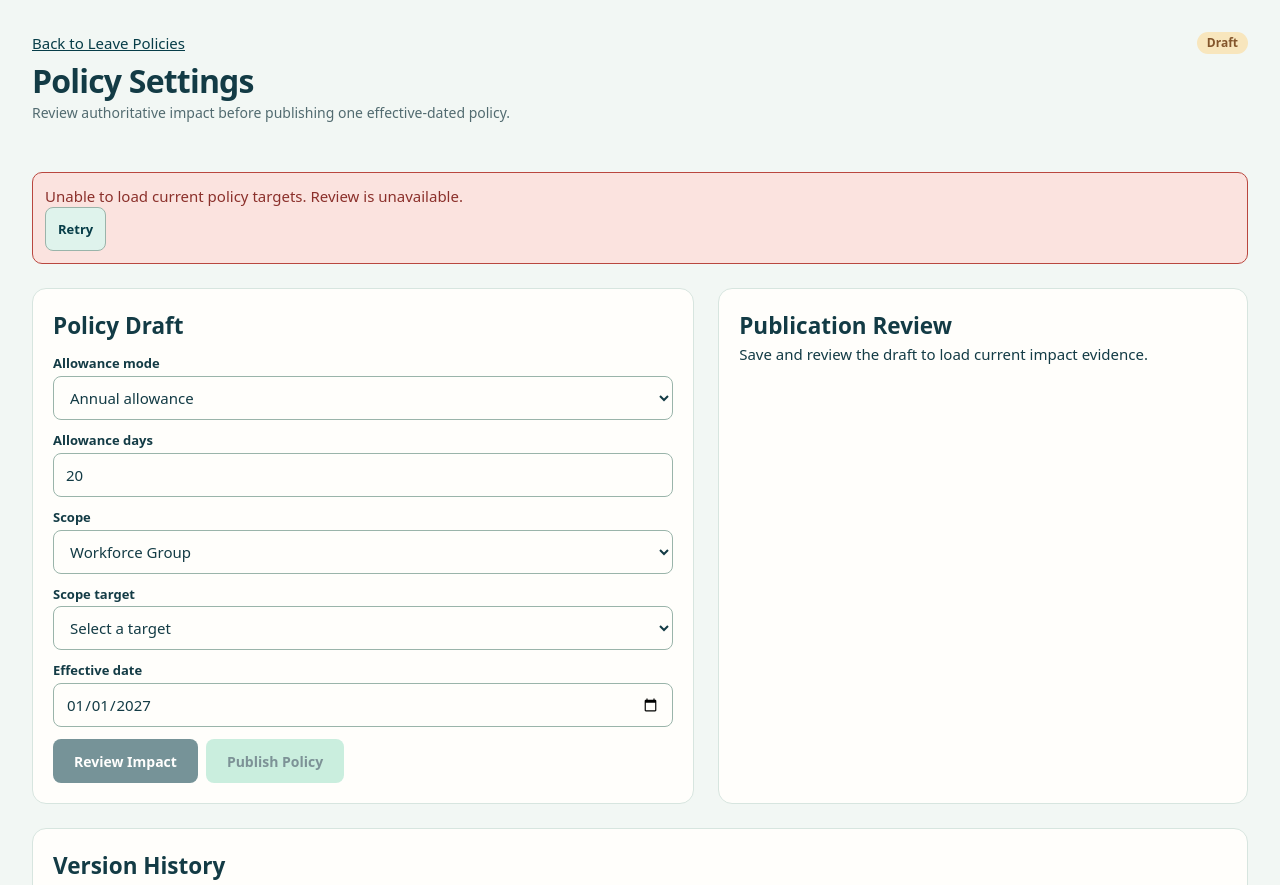
Scenario: PolicySettingsPage › [P0] preserves form input while overview failure blocks review and retry restores it
Replace the text in the number field labelled "Allowance days" with "24": (363, 475) [53,453,673,497]
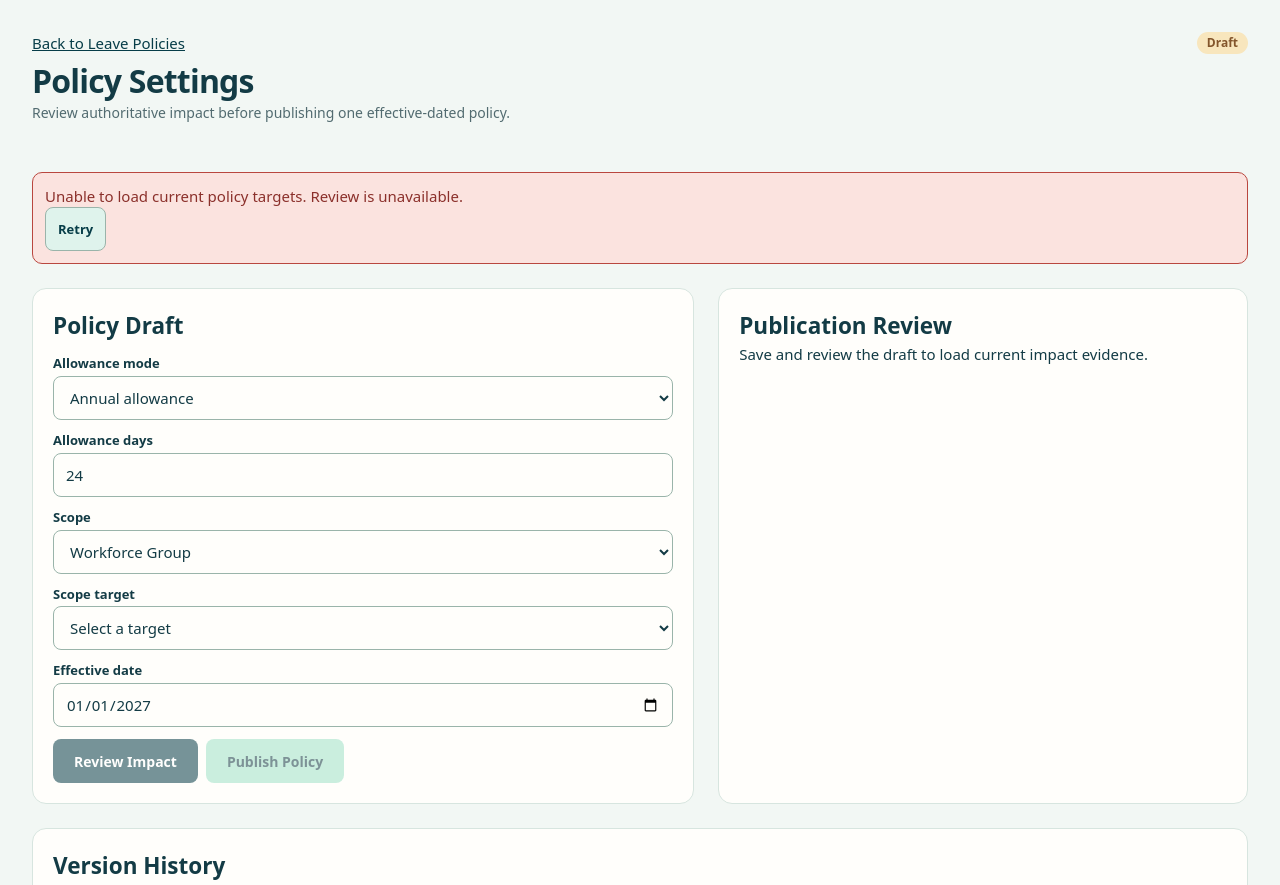
Check: the text "Unable to load current policy targets" is shown, box [45,186,463,206]
Check: the button "Review Impact" is disabled, box [53,739,198,783]
Click the button "Retry": click(76, 229) [45,207,106,251]
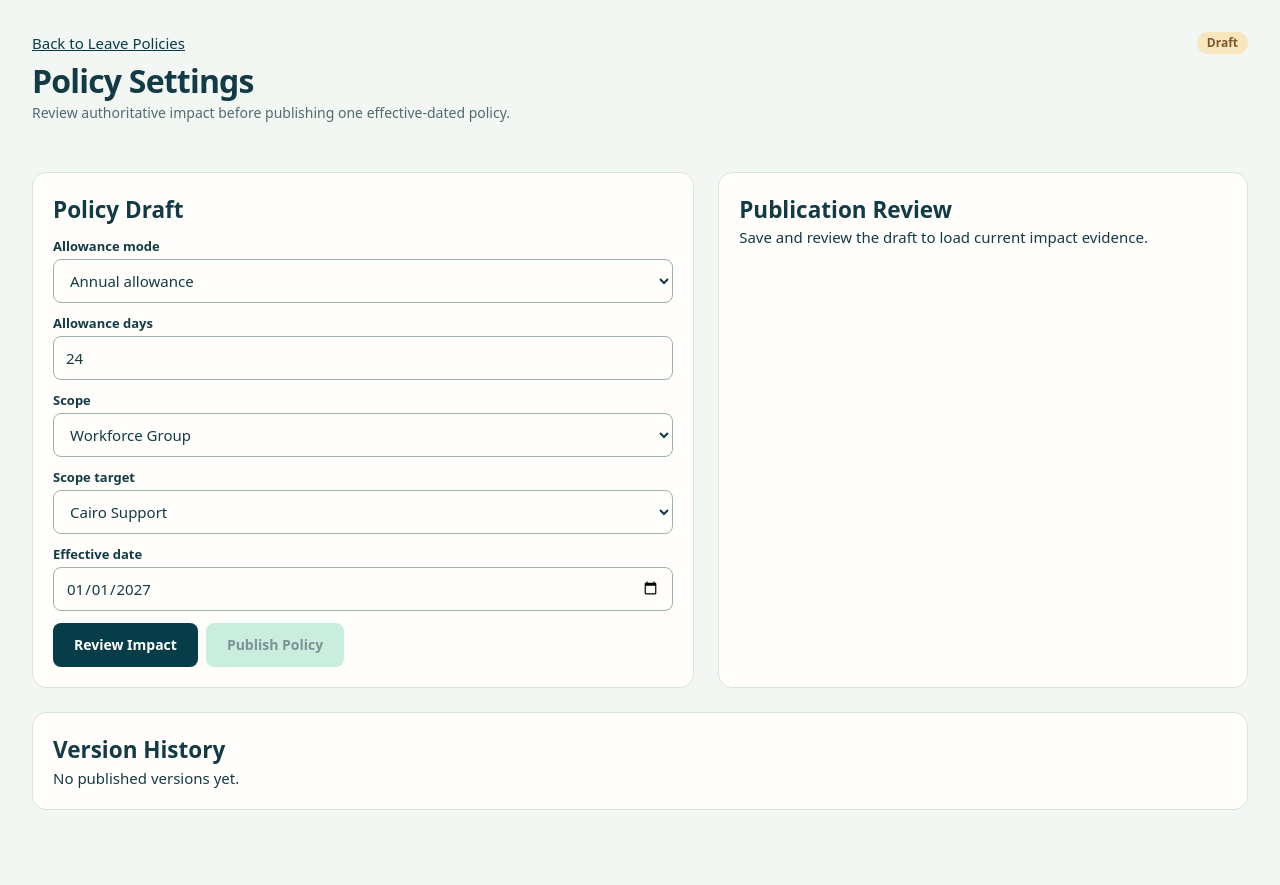
Check: the button "Review Impact" is enabled, box [53,623,198,667]
